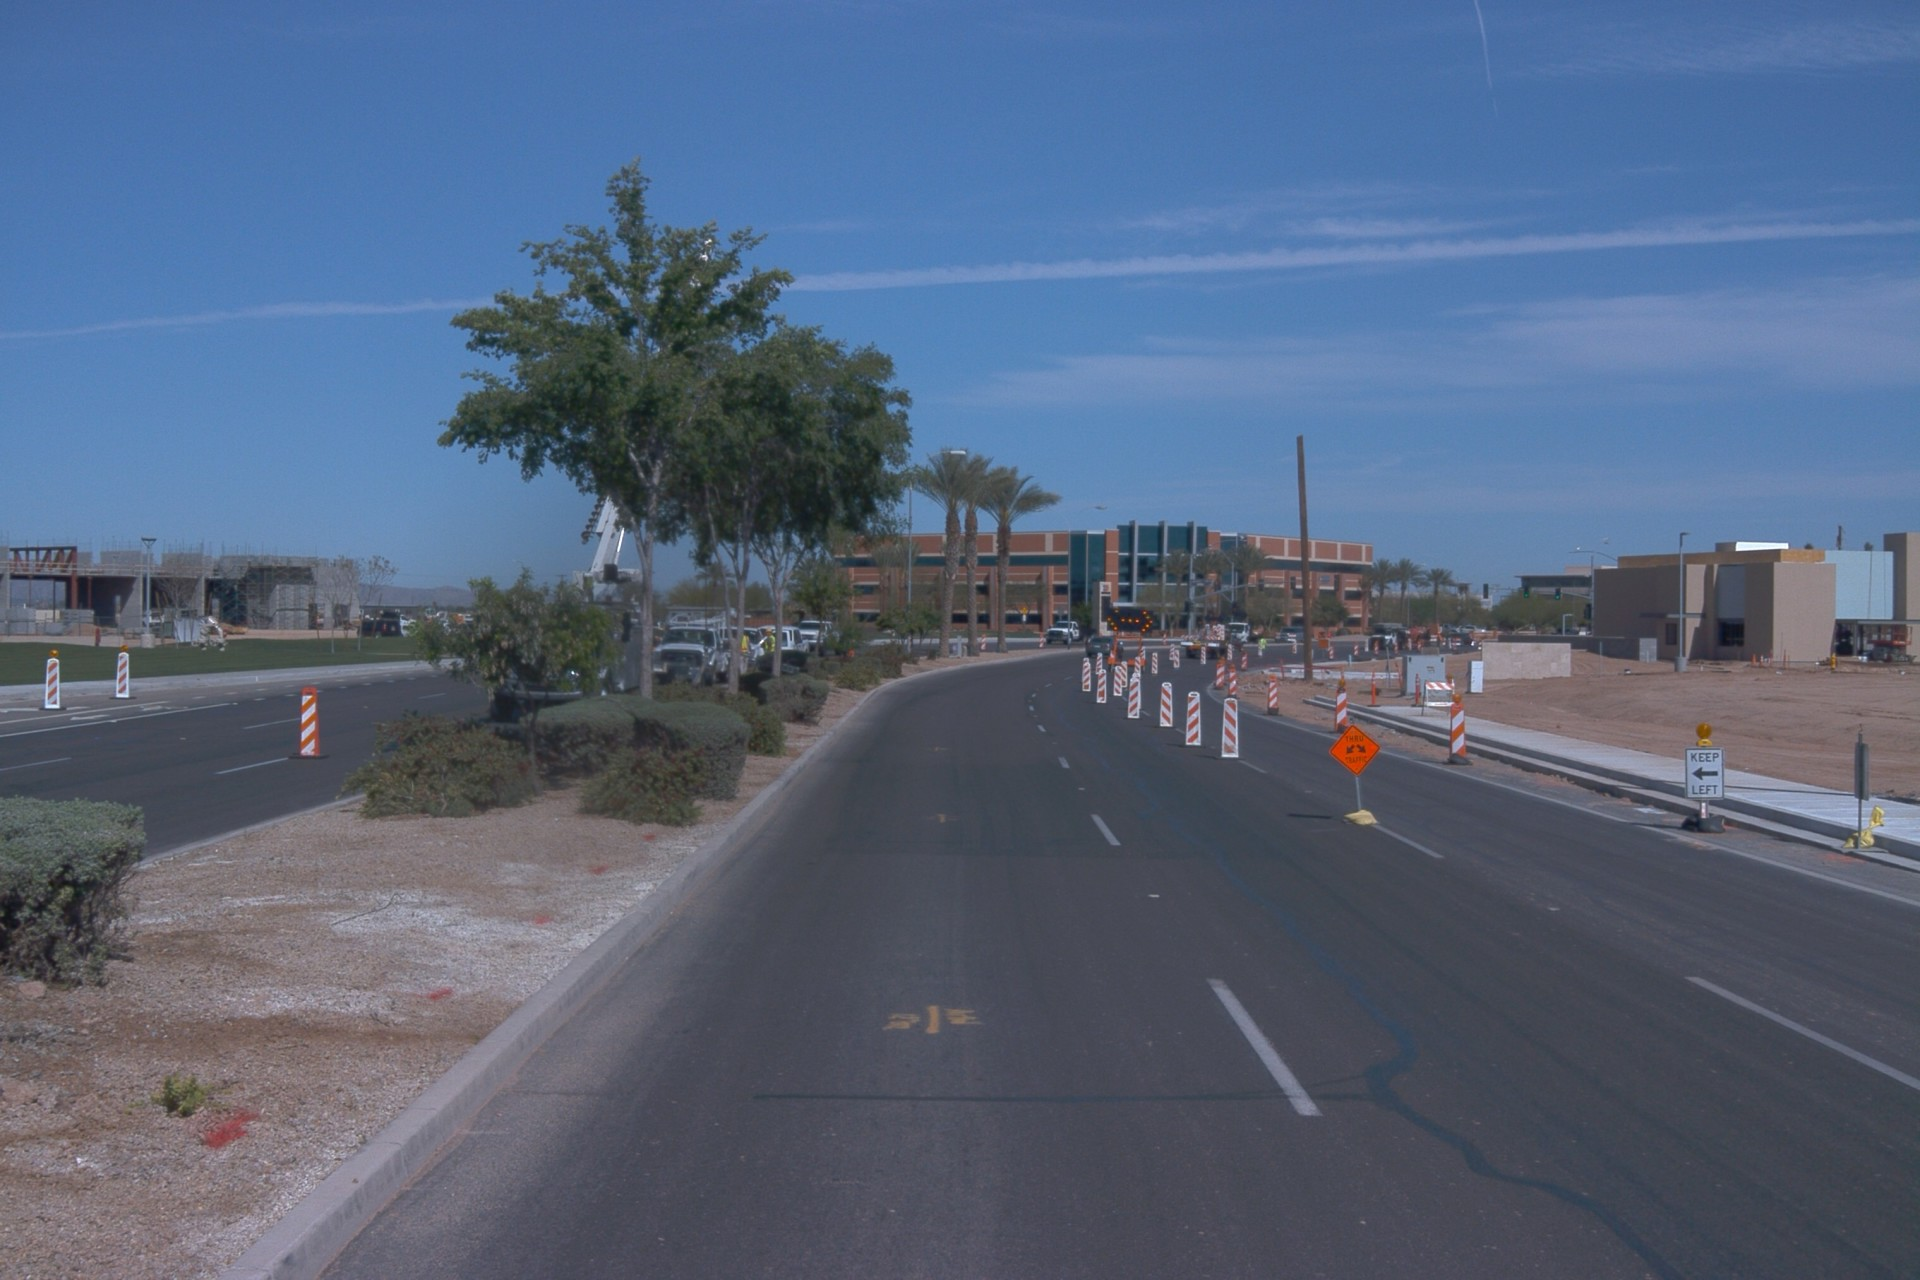TYPE_PEDESTRIAN: (740, 629, 754, 675), (760, 628, 776, 655), (1258, 633, 1267, 659)
TYPE_VEHICLE: (489, 227, 715, 728), (635, 539, 806, 693), (643, 619, 743, 693), (1098, 603, 1158, 688), (1364, 621, 1461, 655), (1176, 616, 1243, 665), (659, 605, 730, 649), (729, 623, 775, 680), (755, 618, 810, 660), (1043, 615, 1102, 650), (795, 620, 844, 656), (360, 619, 406, 646), (367, 611, 420, 632), (1222, 621, 1267, 645), (1083, 635, 1125, 659), (421, 627, 454, 645), (1277, 628, 1305, 645), (141, 611, 166, 630), (1228, 633, 1249, 653)
